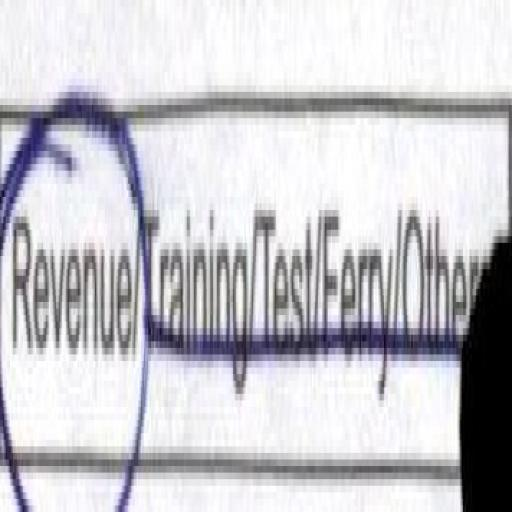check: (0, 35, 141, 512)
